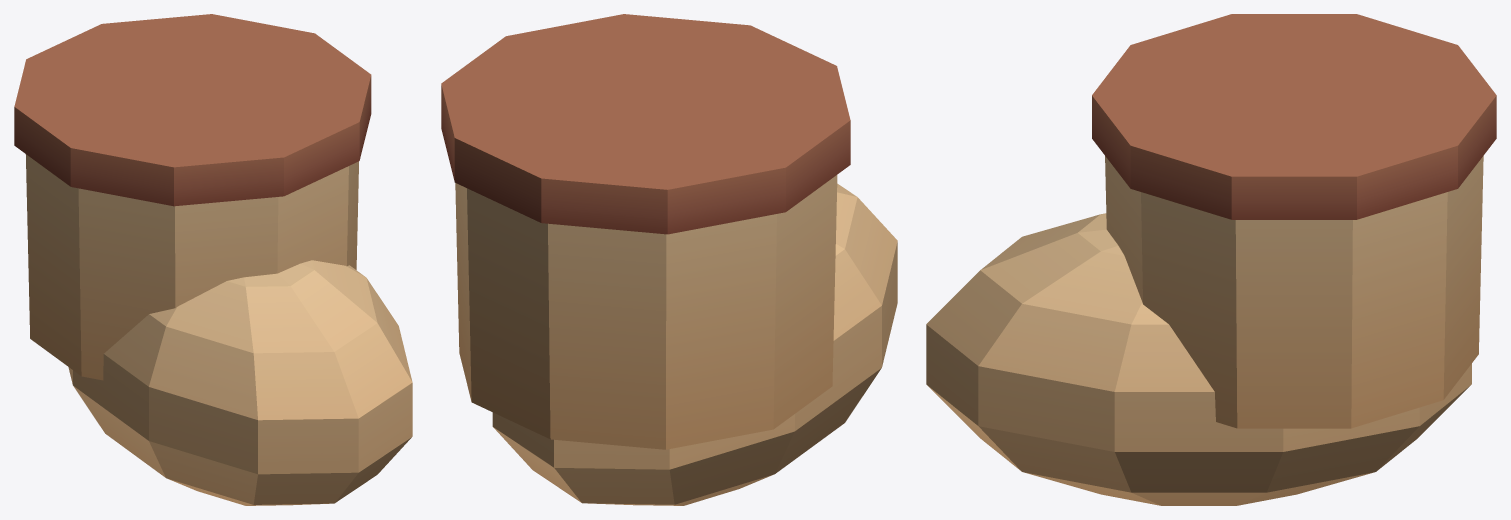
The model's file is leather_boots.glb.
3 renders of one model, left to right at view 1: azimuth 30°, elevation 25°; view 2: azimuth 150°, elevation 25°; view 3: azimuth 270°, elevation 25°, orthographic. The views are drawn at different scales.
Parts seen in each view (by area): view 1: leather_boots; view 2: leather_boots; view 3: leather_boots.
Part boxes in pixels (left/top/right/bottom): leather_boots: left=14, top=14, right=412, bottom=505; leather_boots: left=441, top=14, right=897, bottom=505; leather_boots: left=926, top=14, right=1496, bottom=505.
Bounding box in the file's own units: 0.3234 × 0.365 × 0.4791.
Materials: 1 (1 with a texture image).
